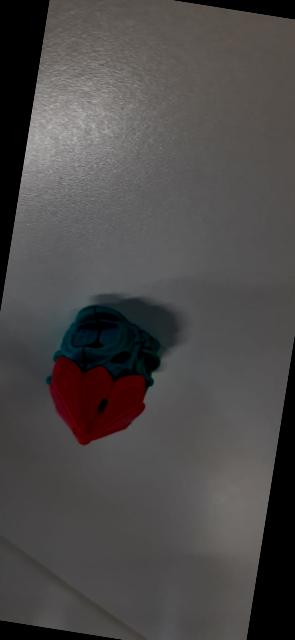House: (34, 298, 180, 466)
